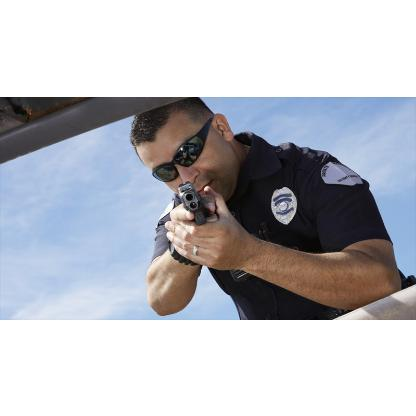gun: (169, 179, 221, 253)
